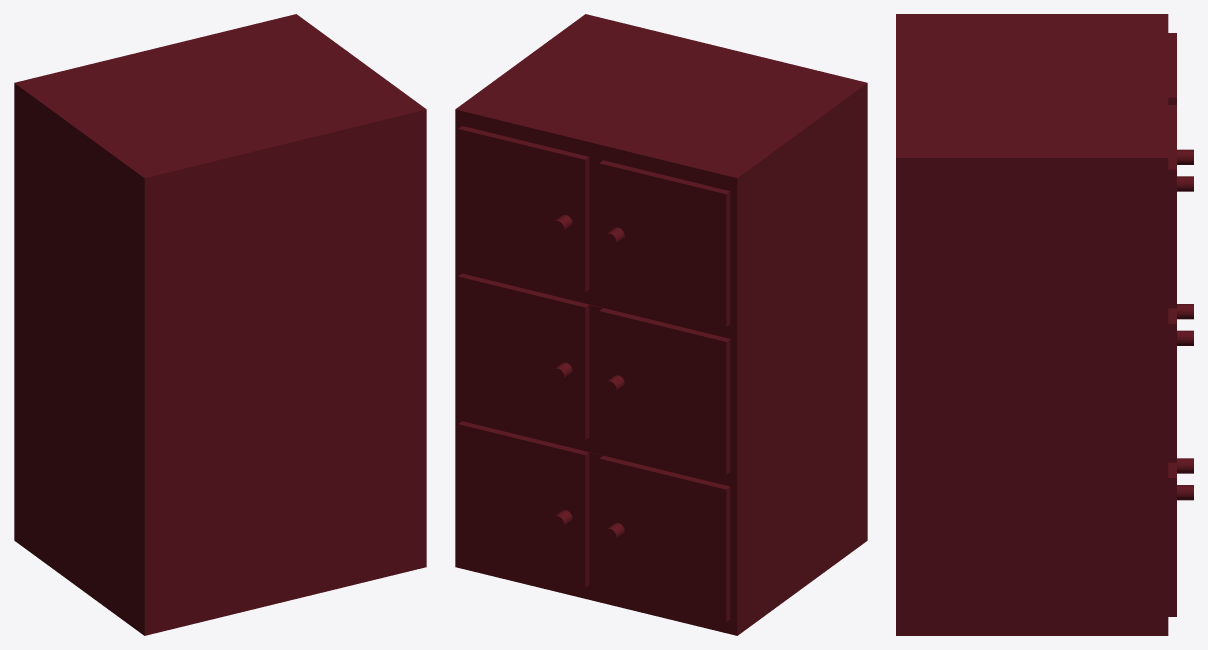
File: Locker.fbx
The picture shows the model from 3 angles, left to right: view 1: azimuth 30°, elevation 25°; view 2: azimuth 150°, elevation 25°; view 3: azimuth 270°, elevation 25°; orthographic projection. The views are drawn at different scales.
Parts seen in each view (by area): view 1: Cube.004; view 2: Cube.004, Cube.005, Cube.008, Cube.000, Cube.001, Cube.002, Cube.003; view 3: Cube.004, Cube.002, Cube.008, Cube.001, Cube.003.
Part boxes in pixels (x1,y1,x2,y2): Cube.004: [14, 14, 426, 635]; Cube.004: [455, 14, 867, 635]; Cube.005: [599, 308, 730, 474]; Cube.008: [458, 421, 589, 587]; Cube.000: [599, 455, 730, 622]; Cube.001: [458, 273, 589, 440]; Cube.002: [458, 126, 589, 292]; Cube.003: [599, 160, 730, 326]; Cube.004: [896, 14, 1168, 635]; Cube.002: [1168, 105, 1193, 308]; Cube.008: [1168, 462, 1193, 616]; Cube.001: [1168, 308, 1193, 462]; Cube.003: [1168, 33, 1193, 164].
Size of the model in its own units: 2 by 3.1 by 1.75.
